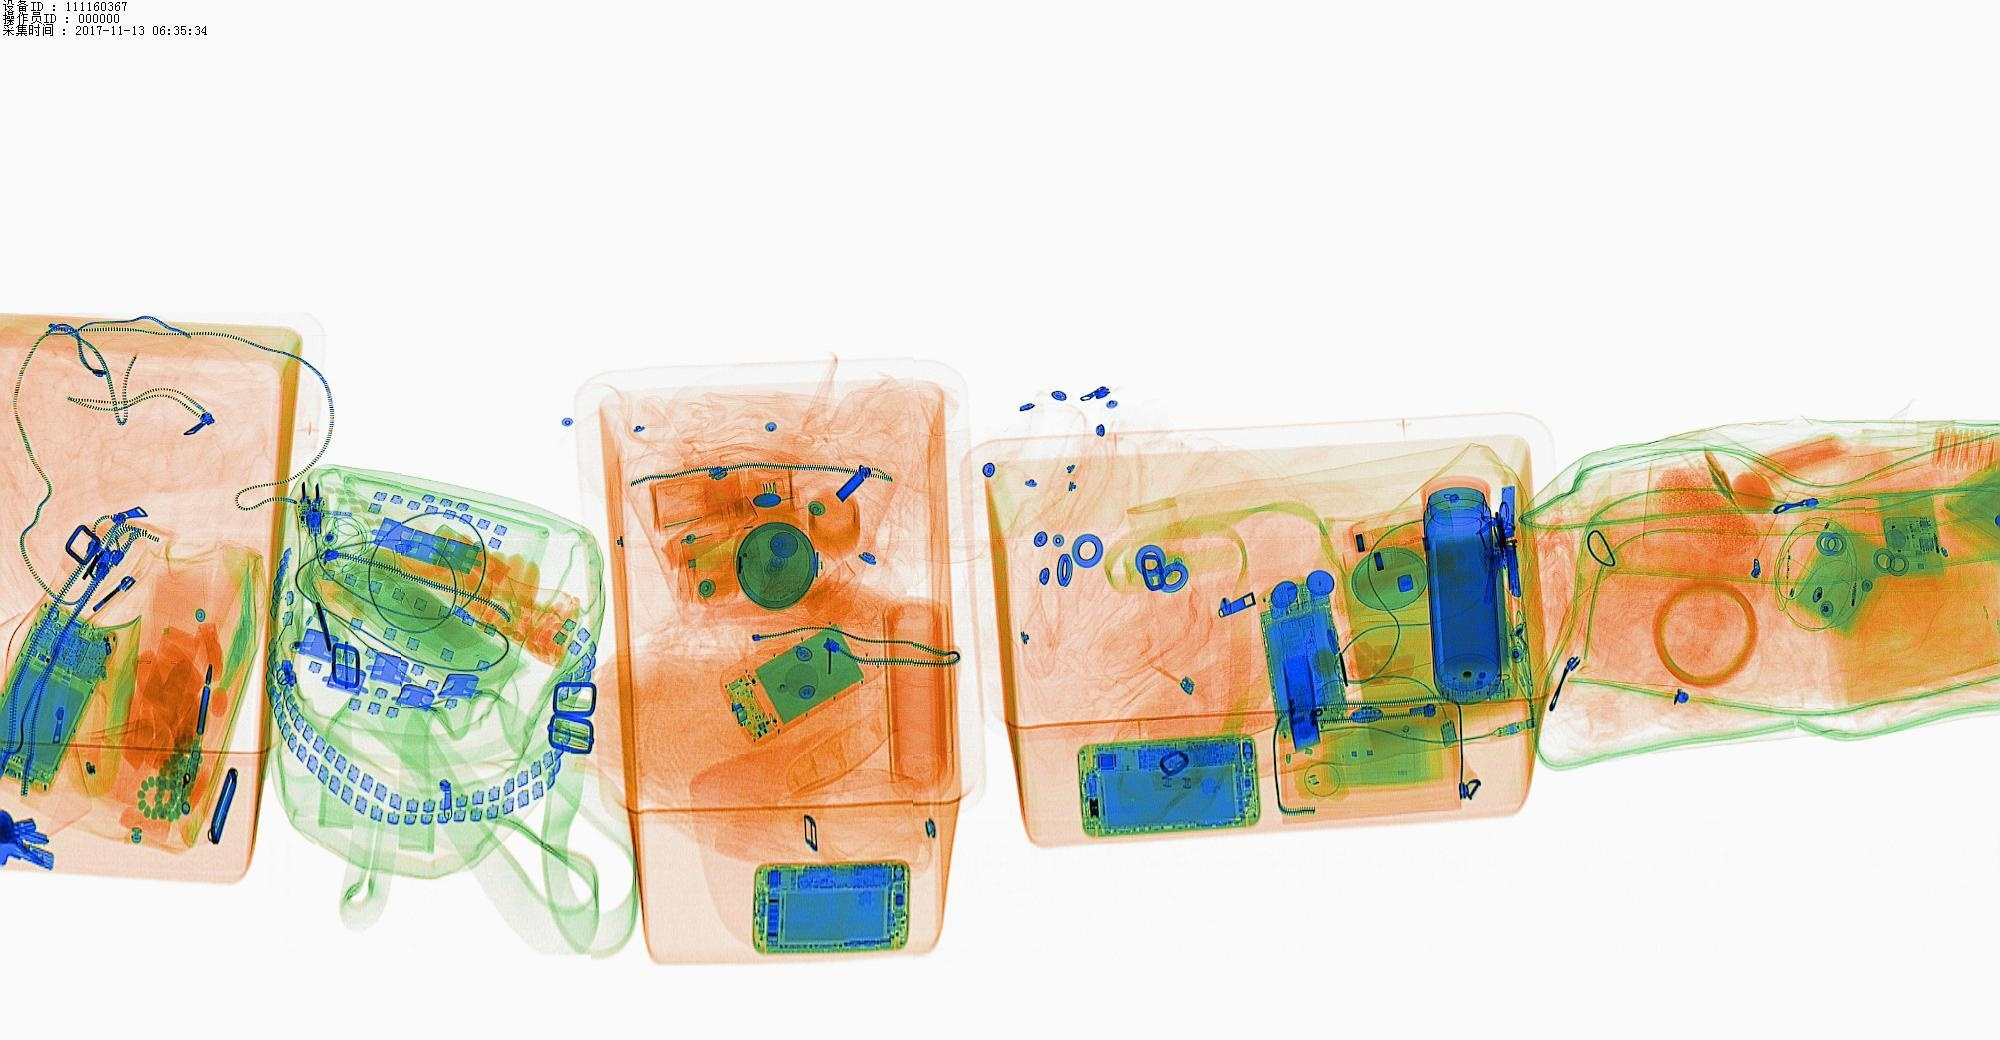coreless: (720, 619, 876, 738), (1431, 539, 1519, 701)
